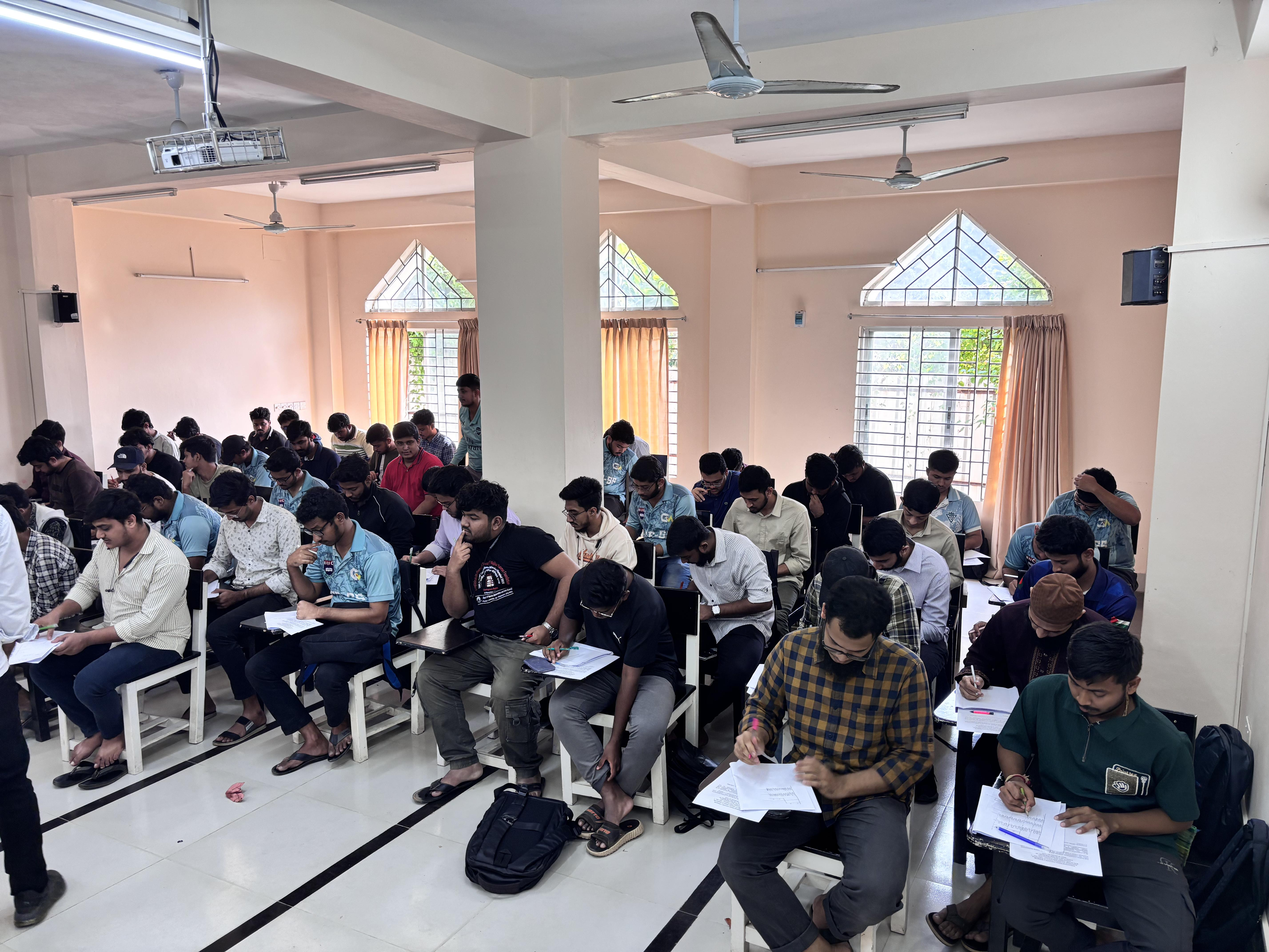copying: (177, 433, 224, 500), (110, 444, 149, 487)
no_cheating: (988, 619, 1179, 882), (759, 579, 926, 826), (440, 482, 543, 704), (539, 554, 656, 722), (283, 489, 388, 666), (70, 494, 166, 676), (207, 473, 288, 606), (663, 511, 748, 624), (993, 573, 1082, 662), (858, 510, 936, 589), (557, 476, 621, 558), (1039, 511, 1104, 589), (449, 370, 494, 481), (16, 432, 82, 499), (388, 426, 442, 501), (1067, 458, 1120, 532), (730, 464, 783, 533), (793, 450, 845, 519), (621, 456, 673, 524), (896, 470, 943, 544), (924, 448, 976, 507), (262, 448, 310, 509), (329, 457, 380, 510), (688, 451, 734, 508), (215, 427, 259, 474), (832, 442, 869, 493), (322, 406, 361, 452), (281, 419, 323, 461), (360, 417, 397, 459), (604, 417, 639, 459), (408, 407, 441, 448), (245, 403, 272, 440)
